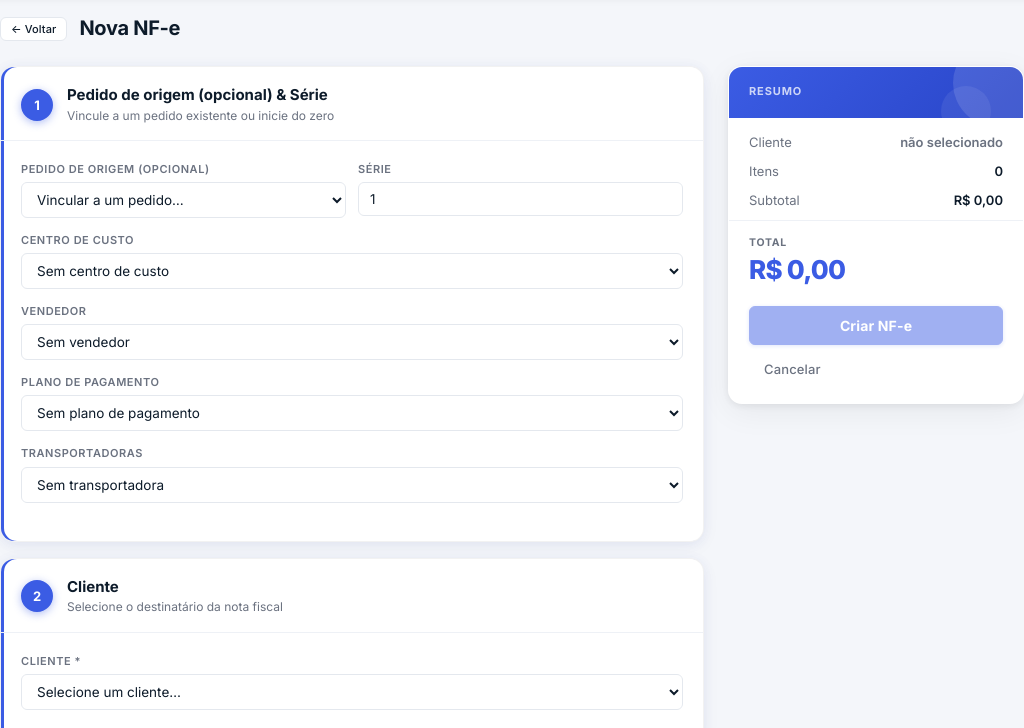
InvoiceNewPage — NCM/CFOP travados no cadastro do produto › produto sem NCM/CFOP cadastrado mostra aviso com link pro cadastro do produto
The width and height of the screenshot is (1024, 728).
Step 1. Select "ACME Ltda" in the dropdown labelled "Cliente *" → (352, 692), box [21,674,683,710]
(page scrolled)
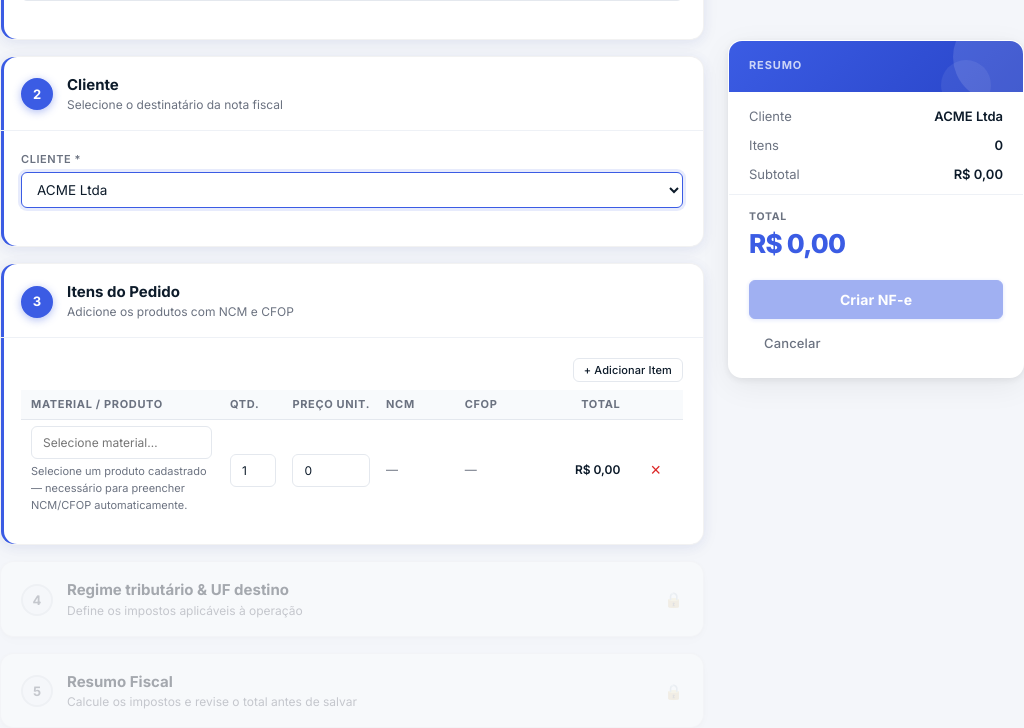
Expected: the heading "Itens do Pedido" is shown, [67,282,180,301]
Step 2. Click the dropdown named "Material / Produto" → (122, 443), box [31,426,212,459]
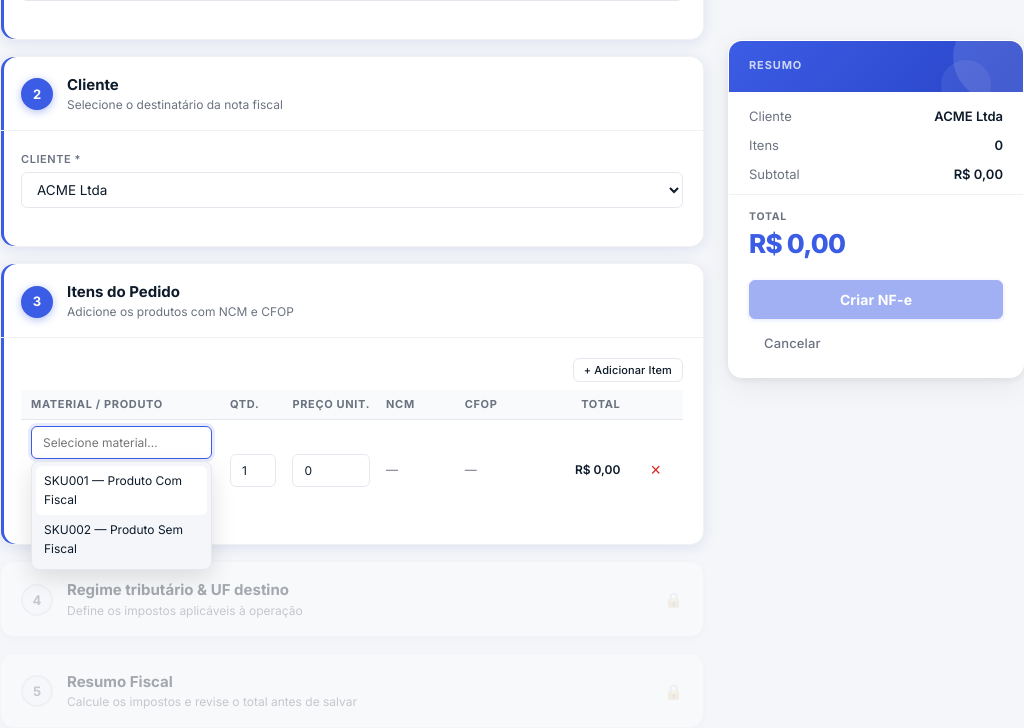
Step 3. Click the option "SKU002 — Produto Sem Fiscal" → (114, 539), box [44,522,183,556]
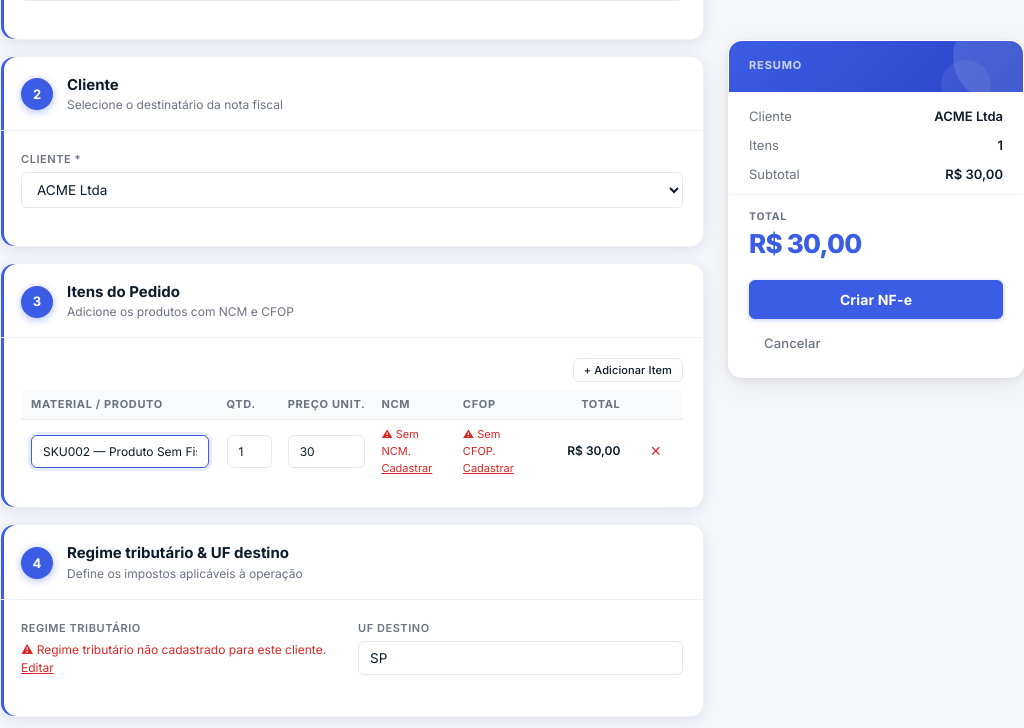
Expected: the 1st link "Cadastrar" is shown, [381,461,432,475]
